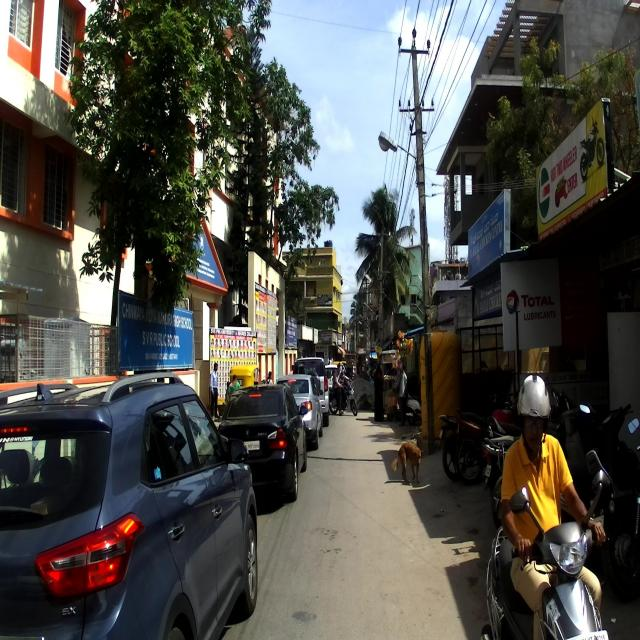Car_BMW: (218, 385, 308, 501)
Car_Hyundai: (0, 367, 260, 639)
motorcycle_bajaj: (436, 402, 518, 481)
scooter: (477, 472, 611, 640)
